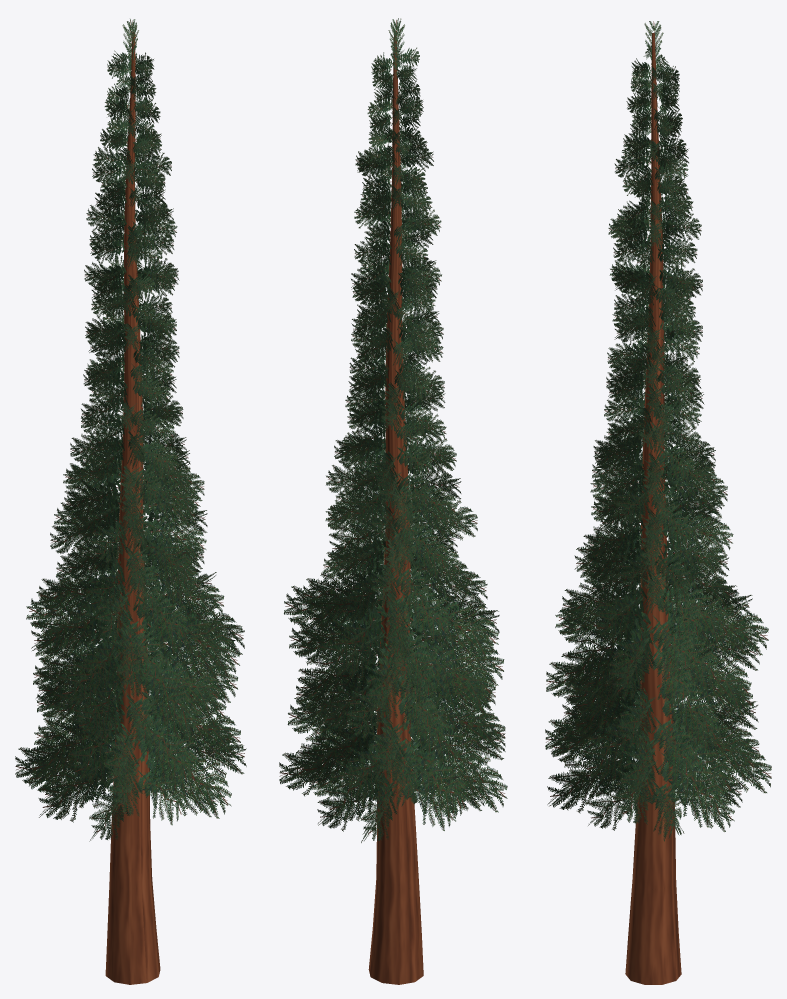
File: veg_redwood_b.fbx
3 renders of one model, left to right at view 1: azimuth 30°, elevation 25°; view 2: azimuth 150°, elevation 25°; view 3: azimuth 270°, elevation 25°, orthographic.
Parts seen in each view (by area): view 1: veg_redwood_b_LOD0; view 2: veg_redwood_b_LOD0; view 3: veg_redwood_b_LOD0.
Part boxes in pixels (bbox=[...]): veg_redwood_b_LOD0: bbox=[15, 19, 246, 984]; veg_redwood_b_LOD0: bbox=[279, 18, 507, 984]; veg_redwood_b_LOD0: bbox=[545, 21, 771, 984].
Size of what is drawn, in the model's own units: 5.78 by 25.74 by 5.66.
Materials: 2 (2 with a texture image).
